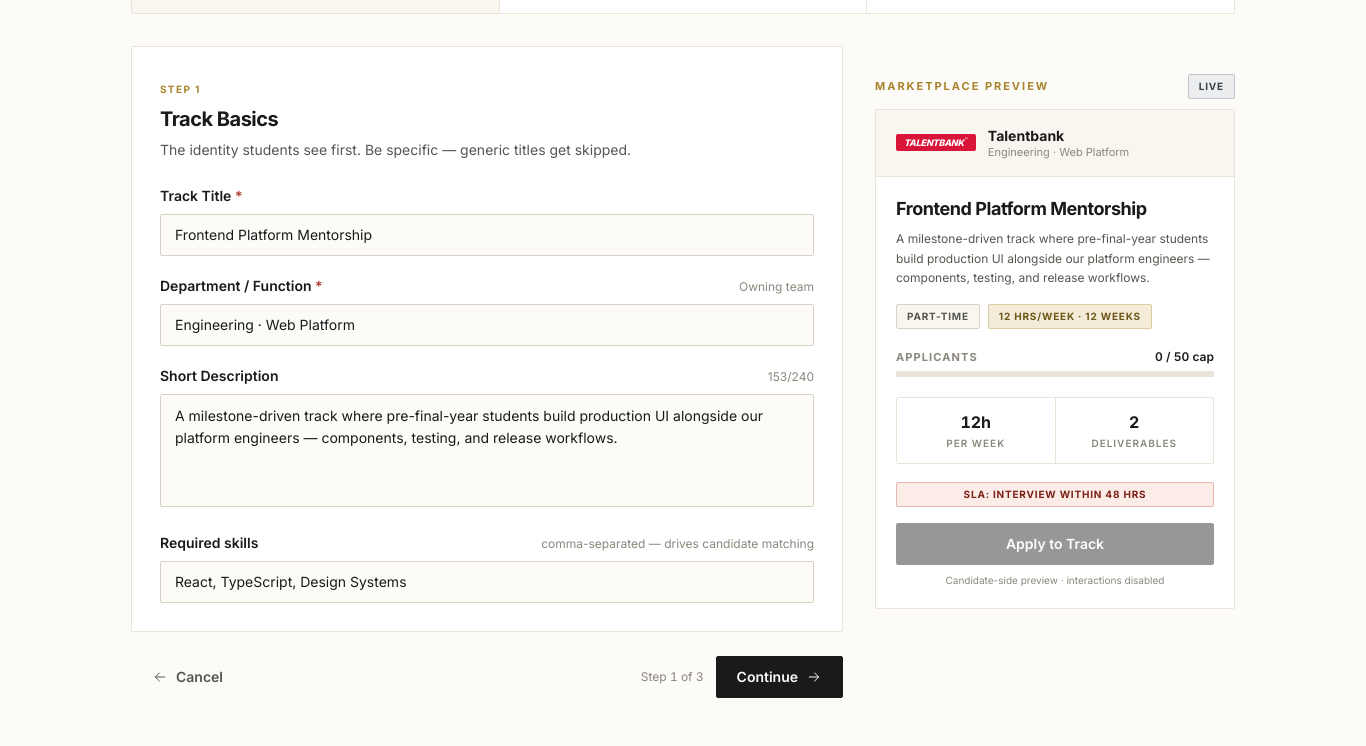
Test case: TrackBuilder › shows Balanced only at 100% and disables Publish when weights are off
(page scrolled)
Click the button "Continue". click: (779, 676)
box: [716,656,843,698]
(page scrolled)
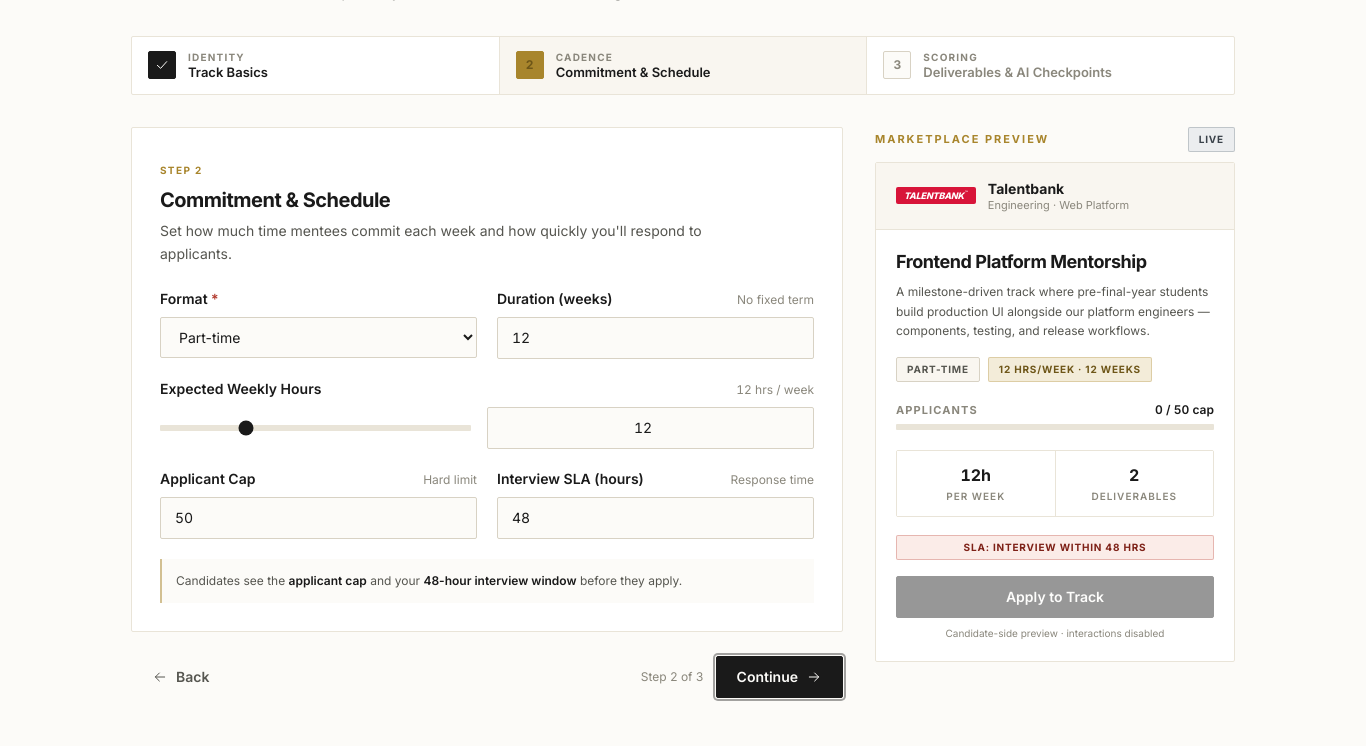
Click the button "Continue". click: (779, 677)
box: [716,656,843,698]
(page scrolled)
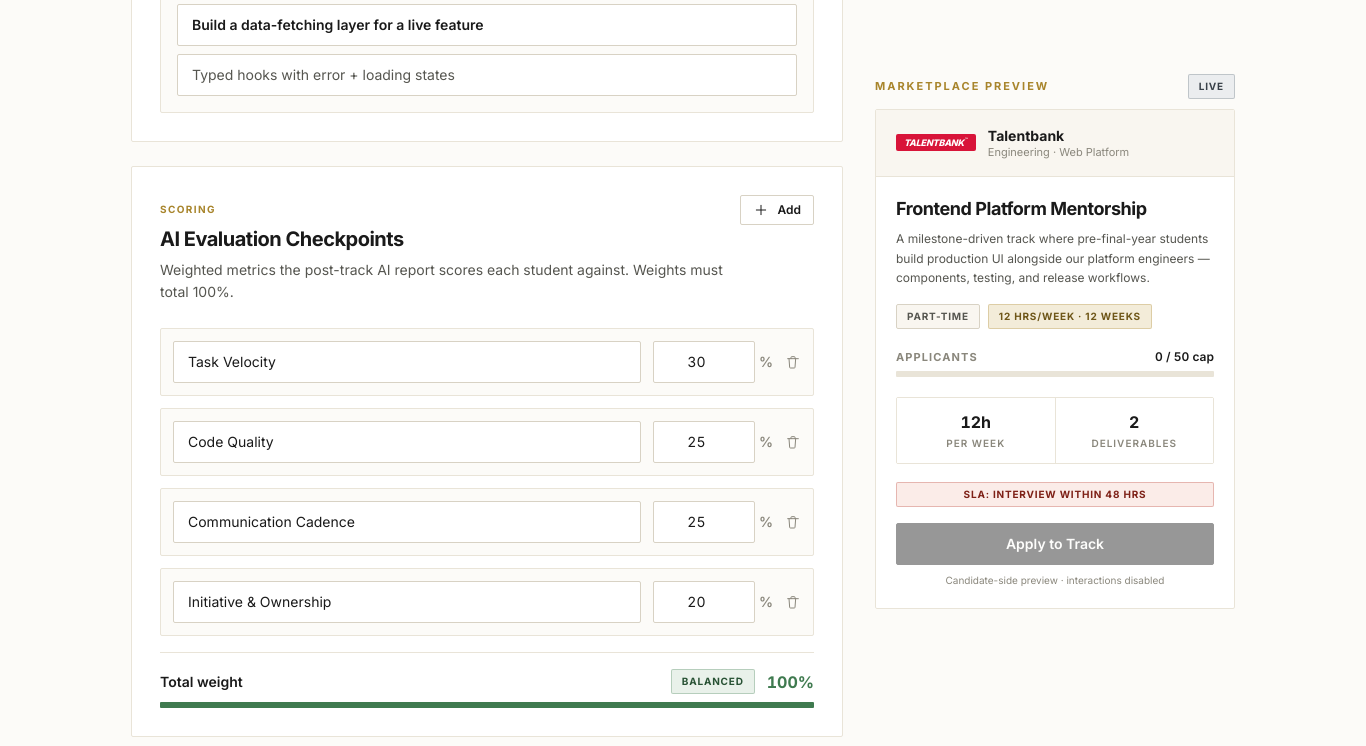
Expected: the text "Balanced" is shown, [671,669,755,694]
Replace the text in the 1st number field named "Weight percent" with "40". click: (704, 362)
box: [653,341,755,383]
(page scrolled)
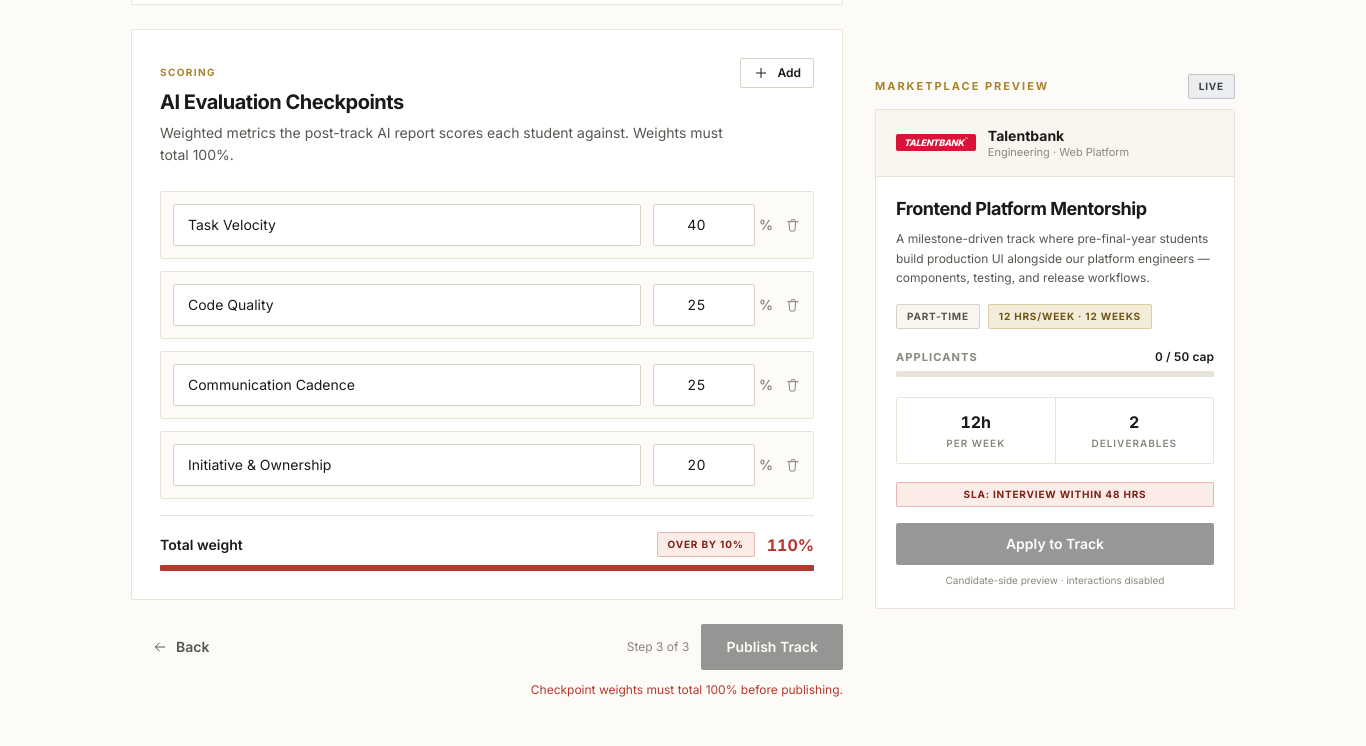
Expected: the text "Balanced" is gone
Expected: the text "Over by 10%" is shown, [657,532,755,557]
Expected: the button "Publish Track" is disabled, [702,624,843,670]
